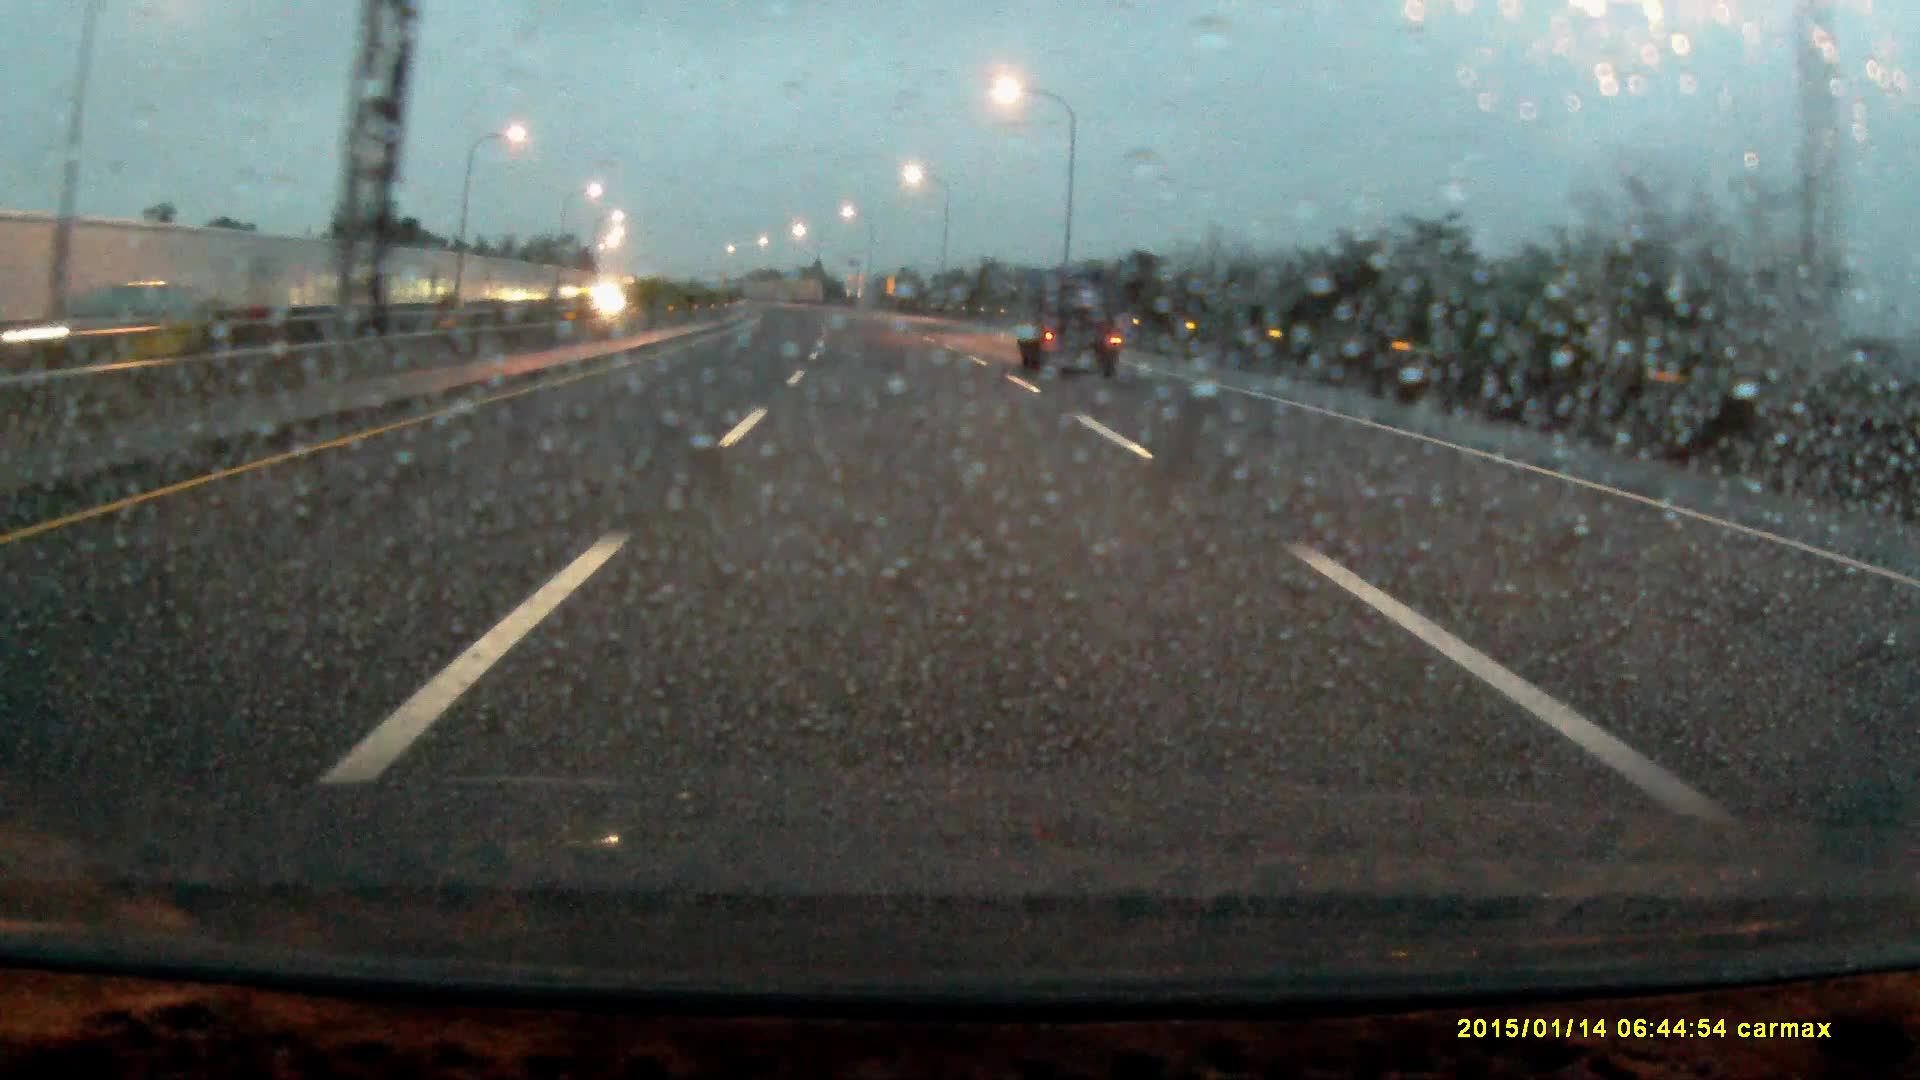vehicle: (1, 277, 223, 377), (1017, 274, 1124, 377), (564, 280, 636, 318)
